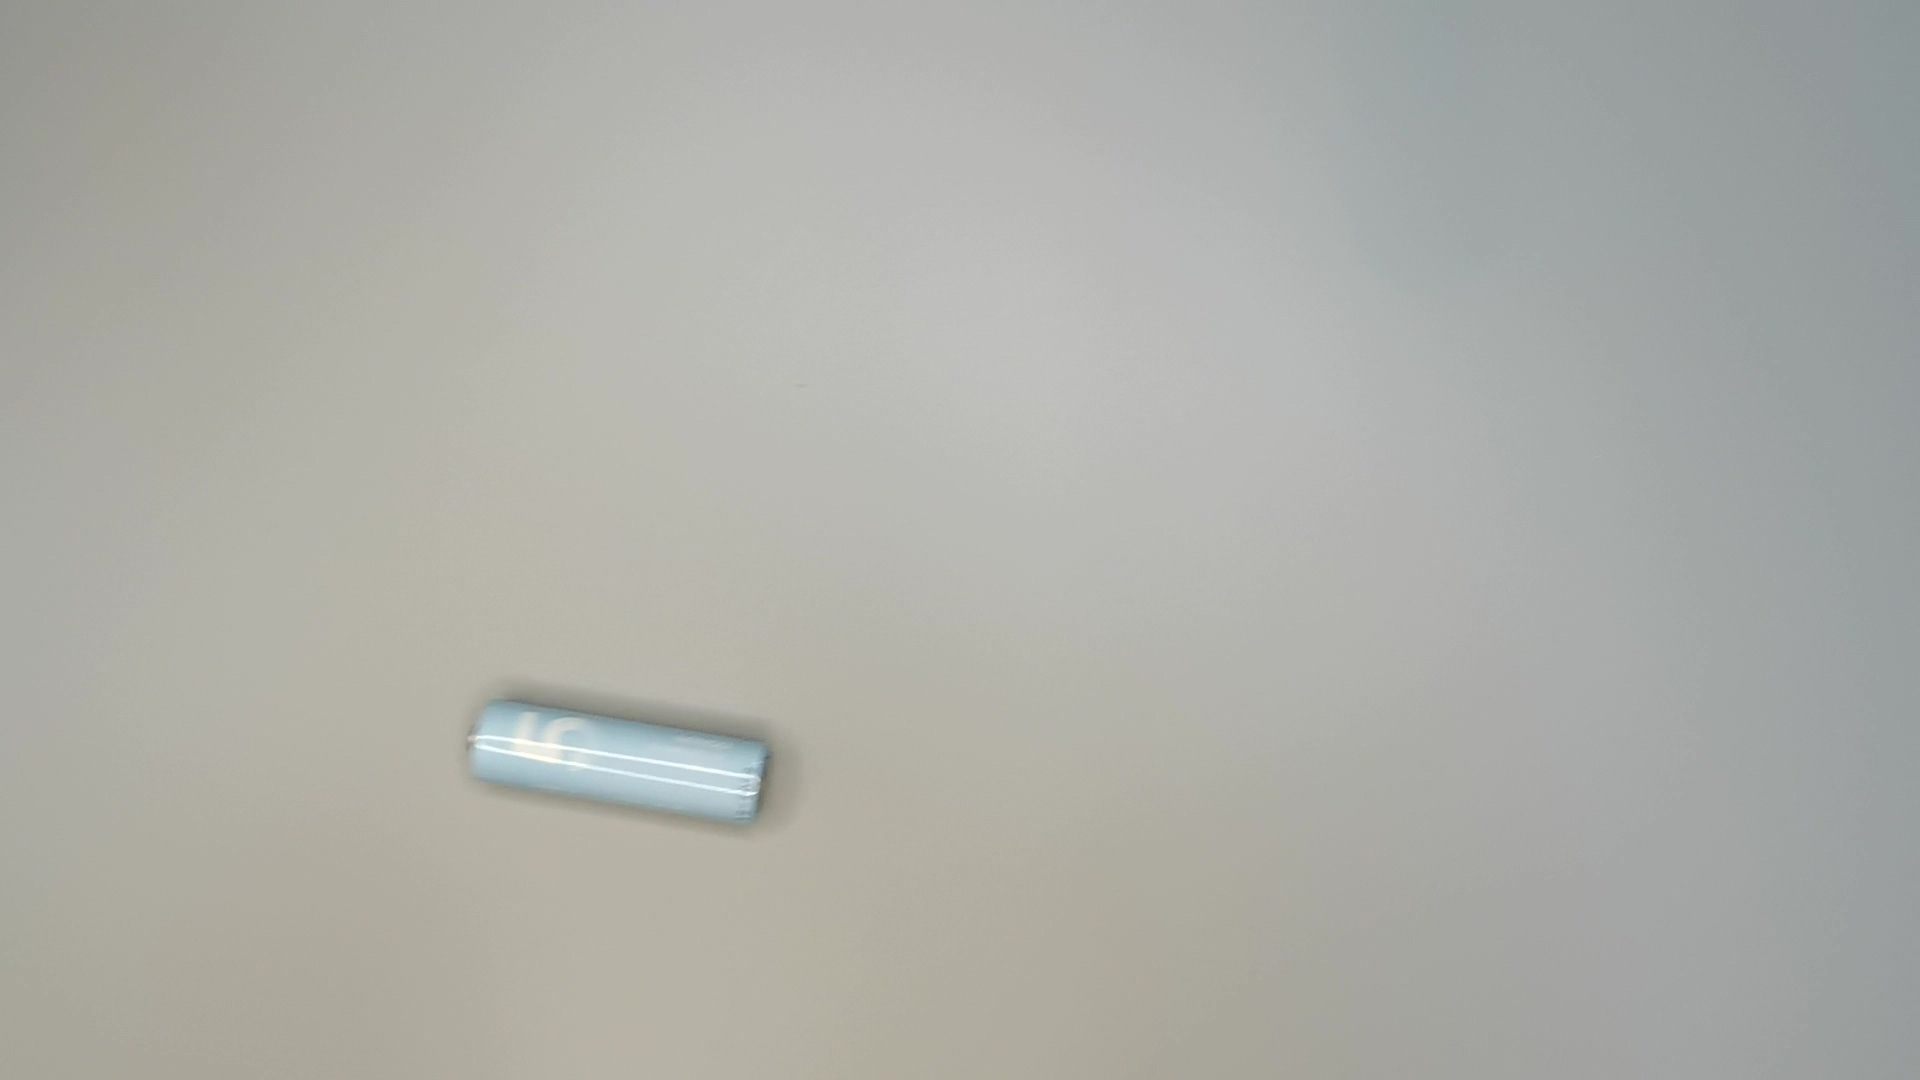battery: (454, 691, 782, 831)
